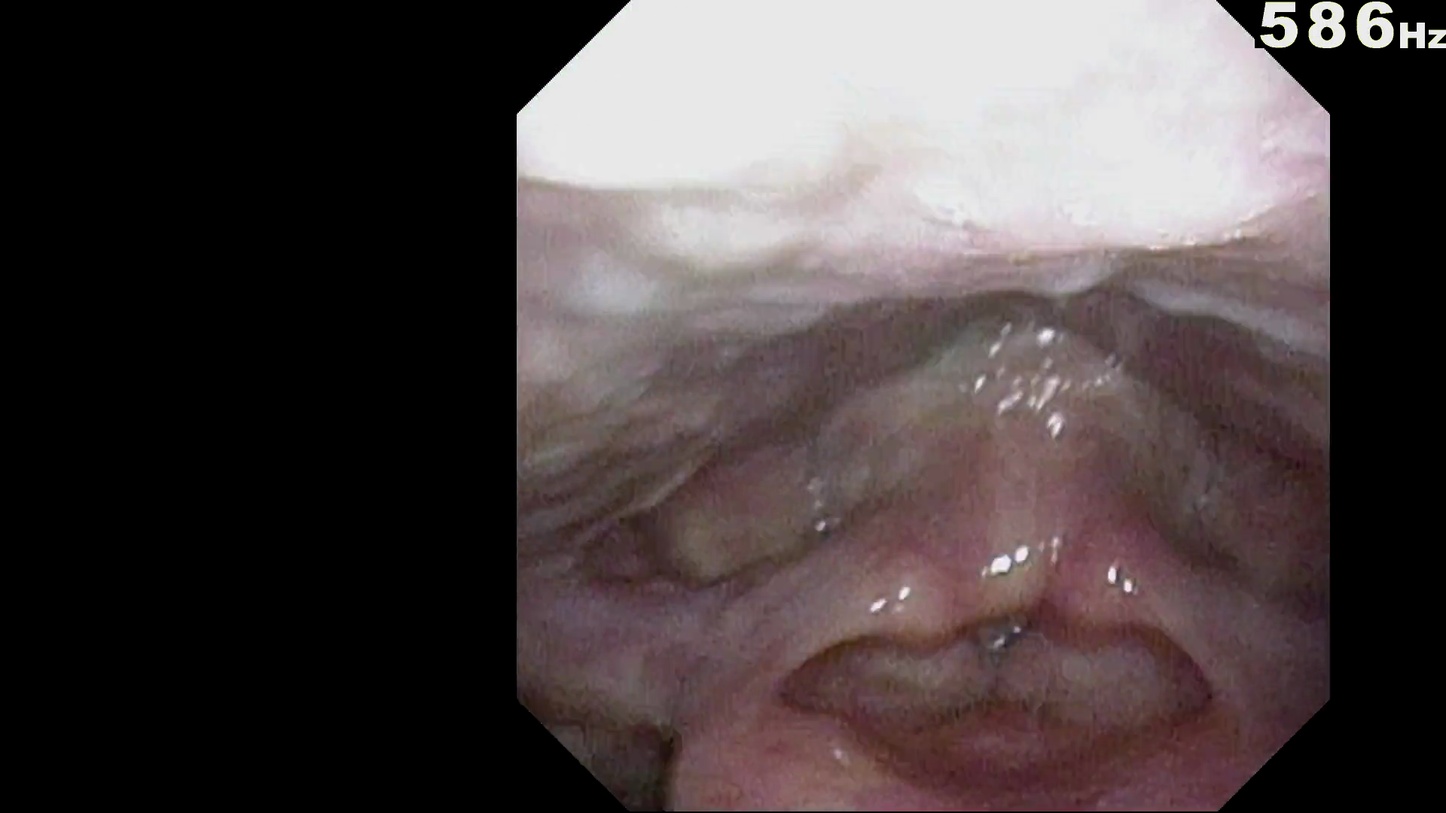epiglottis: (669, 581, 1248, 740)
trachea: (931, 644, 1053, 763)
